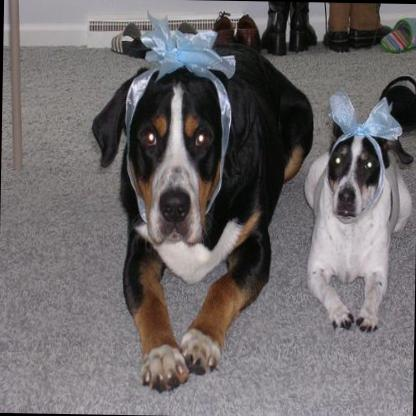Greater_Swiss_Mountain_dog: (87, 37, 314, 394)
